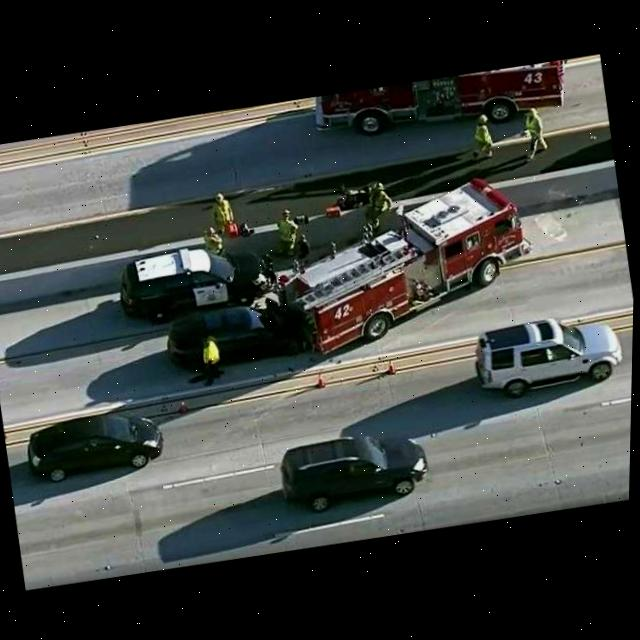emergency: (263, 168, 546, 362)
